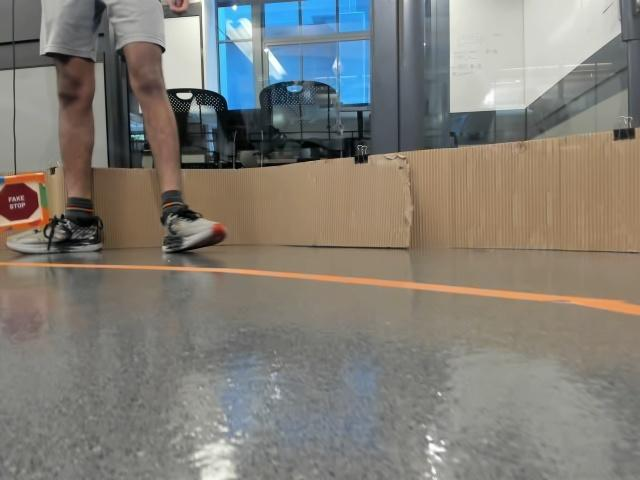Fake Stop: (0, 181, 39, 220)
